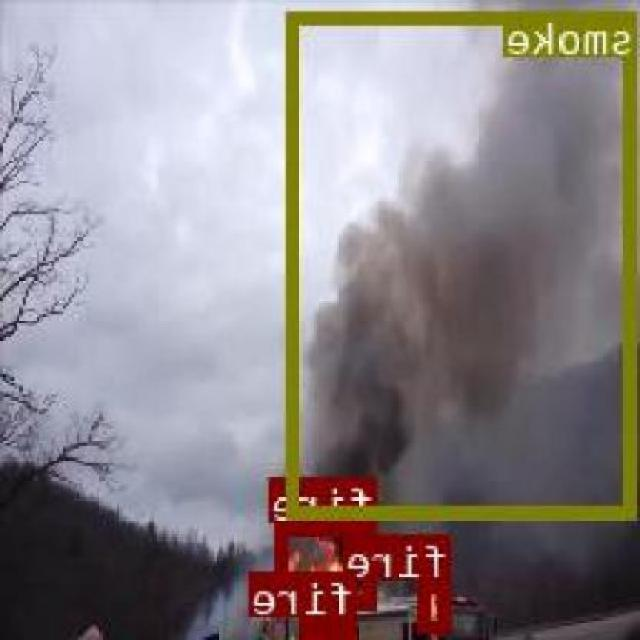Fire: (278, 521, 378, 607), (421, 579, 454, 630), (305, 614, 358, 634)
Smoke: (289, 9, 640, 516)
